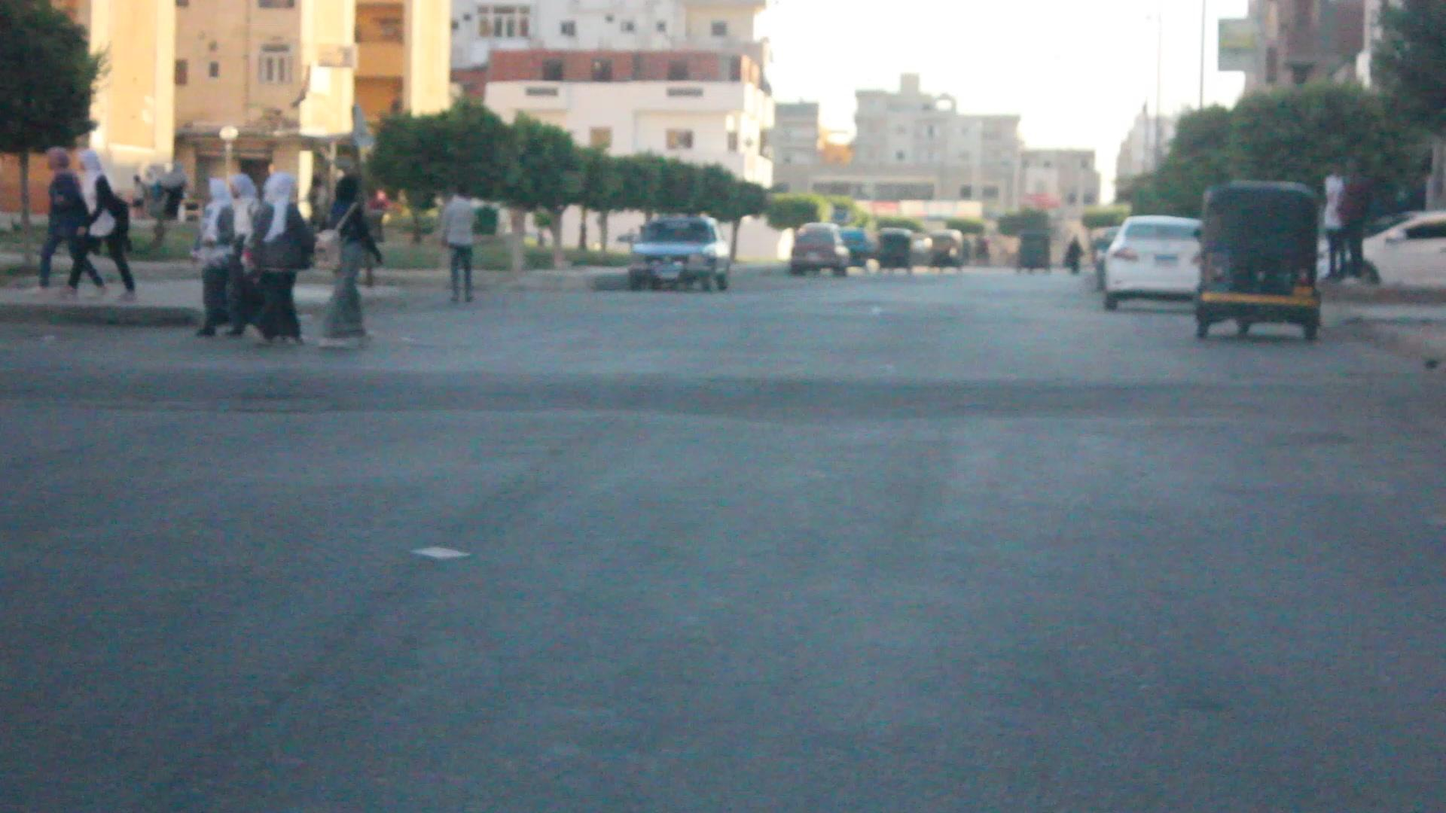Bump: (0, 339, 1446, 435)
